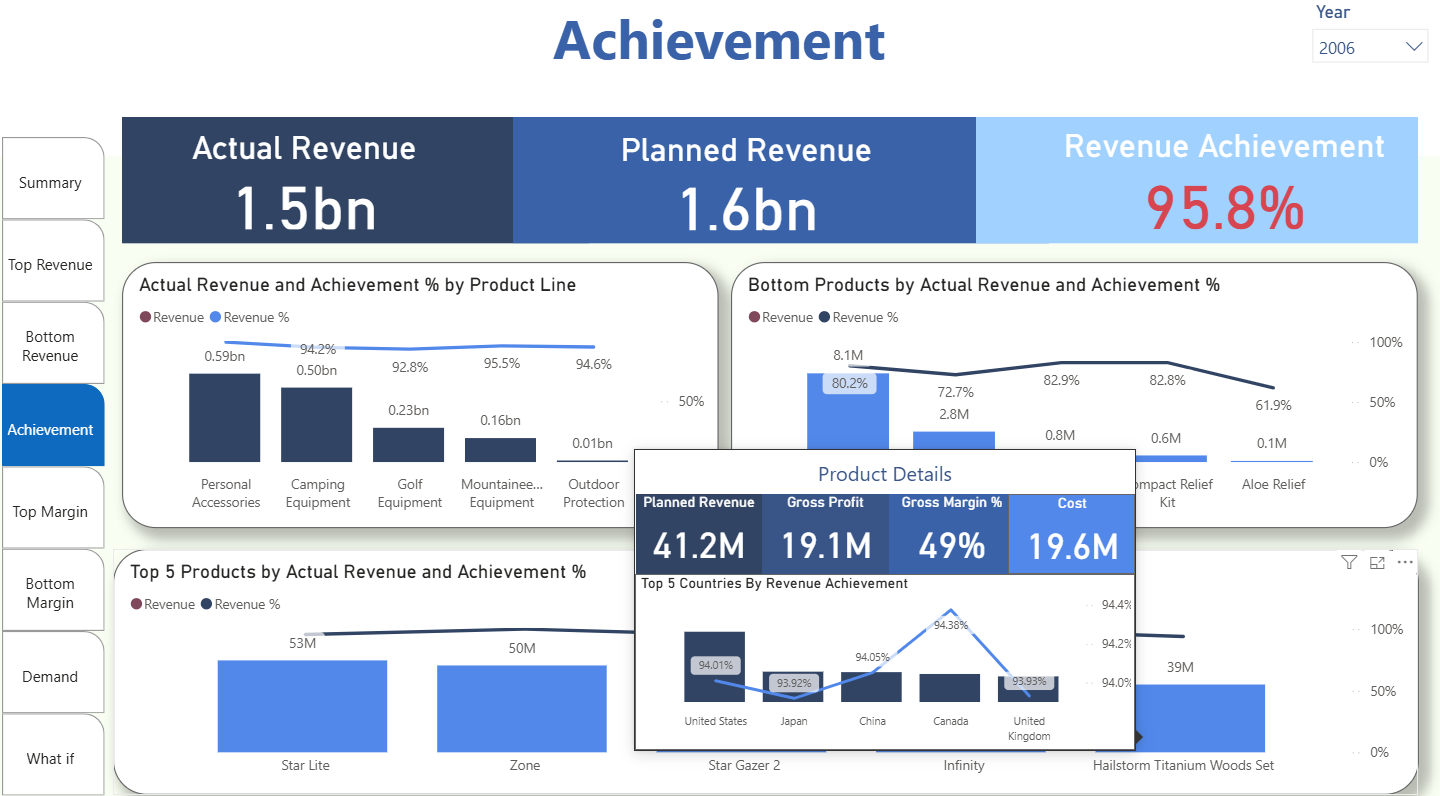

What the dashboard file says about the page in this screenshot:
{"tool":"powerbi","page":{"name":"Achievement","canvas":[1280,720],"ordinal":3},"visuals":[{"type":"shape","box":[0,0,1279.9,143],"z":0},{"type":"slicer","fields":{"Values":["Marketing Sales.Date.Variation.Date Hierarchy.Year"]},"box":[1156.4,0,123.5,108.8],"z":1000},{"type":"textbox","box":[266.5,0,746.9,81.9],"z":2000},{"type":"group","id":"g1","title":"Group 1","box":[111,108.5,1149.3,112.2],"z":2000,"group":"g3"},{"type":"shape","box":[111,108.5,414.1,112.1],"z":2000,"group":"g1"},{"type":"shape","box":[458.1,108.5,475.5,112.1],"z":2750,"group":"g1"},{"type":"lineClusteredColumnComboChart","title":"Actual Revenue and Achievement % by Product Line","fields":{"Category":["Marketing Sales.Product line"],"Y":["Sum(Marketing Sales.Revenue)"],"Y2":["Marketing Sales.Revenue %"]},"box":[111,236.4,529.4,236.4],"z":3000},{"type":"group","id":"g2","title":"Group 2","box":[133.2,117.4,1120.1,96.1],"z":4000,"group":"g3"},{"type":"lineClusteredColumnComboChart","title":"Bottom  Products by Actual Revenue and Achievement %","fields":{"Y":["Sum(Marketing Sales.Revenue)"],"Y2":["Marketing Sales.Revenue %"],"Category":["Marketing Sales.Product"]},"box":[651.3,236.4,609,236.4],"z":4000},{"type":"card","title":"Planned Revenue","fields":{"Values":["Sum(Marketing Sales.Planned revenue)"]},"box":[476.2,121.1,376.7,92.9],"z":5000,"group":"g3"},{"type":"lineClusteredColumnComboChart","title":"Top 5 Products by Actual Revenue and Achievement %","fields":{"Y":["Sum(Marketing Sales.Revenue)"],"Y2":["Marketing Sales.Revenue %"],"Category":["Marketing Sales.Product"]},"box":[102.5,490.9,1157.8,218.3],"z":5000},{"type":"group","id":"g3","title":"Group 3","box":[111,108.5,1149.3,112.2],"z":6000},{"type":"card","title":"Revenue Achievement","fields":{"Values":["Marketing Sales.Revenue %"]},"box":[923.9,117.4,329.3,96.1],"z":6000,"group":"g2"},{"type":"pageNavigator","box":[4.1,125.6,91.8,587.3],"z":7000},{"type":"card","title":"Actual Revenue","fields":{"Values":["Sum(Marketing Sales.Revenue)"]},"box":[133.2,119.3,278.8,94.1],"z":8000,"group":"g2"},{"type":"shape","box":[868.4,108.5,392,112.2],"z":9500,"group":"g1"}]}

Visuals, with their boxes in screenshot pixels (x1, y1, x2, y2), scaled from the page's 1280x720 canvas onto the 1440x796 screenshot:
shape: left=0, top=0, right=1439, bottom=158
slicer - Marketing Sales.Date.Variation.Date Hierarchy.Year: left=1301, top=0, right=1439, bottom=120
textbox: left=300, top=0, right=1140, bottom=91
"Group 1" group: left=125, top=120, right=1418, bottom=244
shape: left=125, top=120, right=591, bottom=244
shape: left=515, top=120, right=1050, bottom=244
"Actual Revenue and Achievement % by Product Line" lineClusteredColumnComboChart: left=125, top=261, right=720, bottom=523
"Group 2" group: left=150, top=130, right=1410, bottom=236
"Bottom  Products by Actual Revenue and Achievement %" lineClusteredColumnComboChart: left=733, top=261, right=1418, bottom=523
"Planned Revenue" card: left=536, top=134, right=960, bottom=237
"Top 5 Products by Actual Revenue and Achievement %" lineClusteredColumnComboChart: left=115, top=543, right=1418, bottom=784
"Group 3" group: left=125, top=120, right=1418, bottom=244
"Revenue Achievement" card: left=1039, top=130, right=1410, bottom=236
pageNavigator: left=5, top=139, right=108, bottom=788
"Actual Revenue" card: left=150, top=132, right=464, bottom=236
shape: left=977, top=120, right=1418, bottom=244
